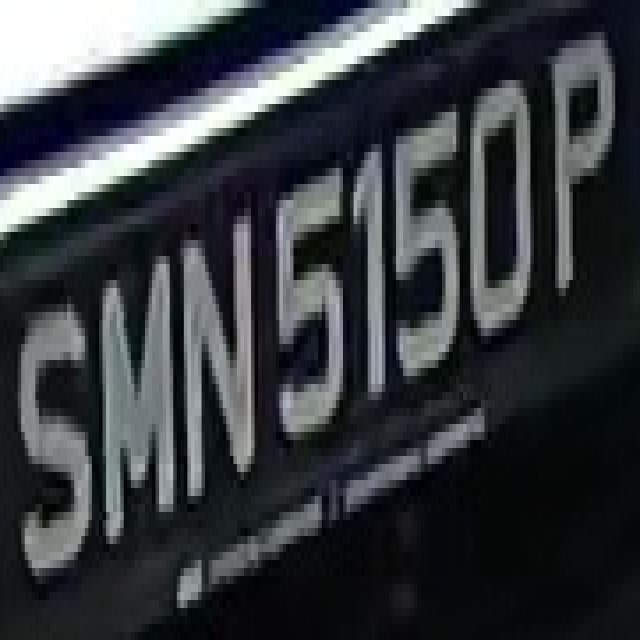0: (460, 88, 538, 368)
1: (346, 104, 389, 432)
5: (258, 160, 347, 432), (386, 88, 452, 384)
M: (95, 232, 184, 528)
N: (170, 208, 265, 520)
P: (534, 32, 622, 344)
S: (4, 264, 96, 608)
